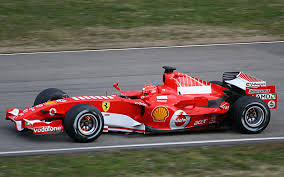FormulaOneCar: (4, 63, 278, 145)
